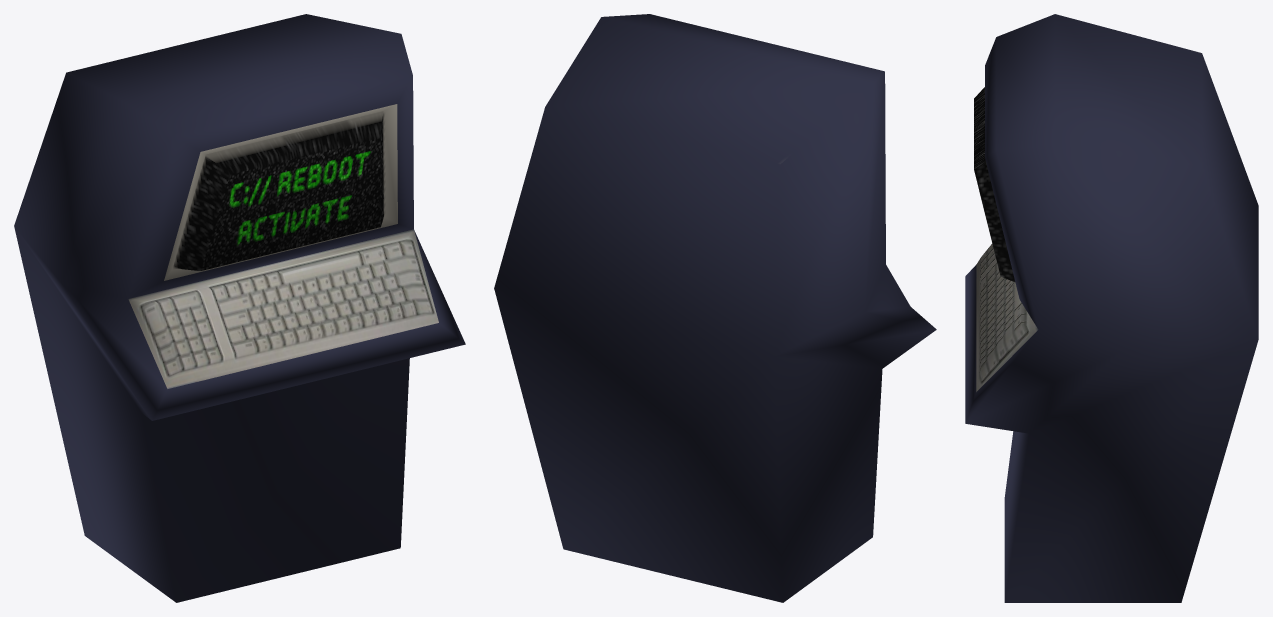
File: terminal.fbx
The picture shows the model from 3 angles, left to right: view 1: azimuth 30°, elevation 25°; view 2: azimuth 150°, elevation 25°; view 3: azimuth 270°, elevation 25°; orthographic projection. The views are drawn at different scales.
Visible parts, largest first — view 1: pCube2; view 2: pCube2; view 3: pCube2.
Part boxes in pixels (<box>): pCube2: <box>14,14,465,602</box>; pCube2: <box>494,14,936,602</box>; pCube2: <box>965,14,1258,602</box>.
Bounding box in the file's own units: 0.9965 × 1.41 × 0.7937.
1 material, 1 textured.
